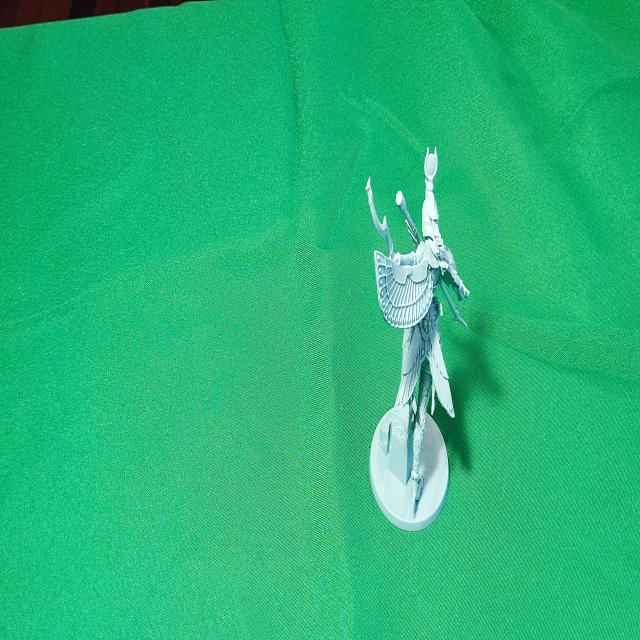isis: (352, 125, 482, 546)
